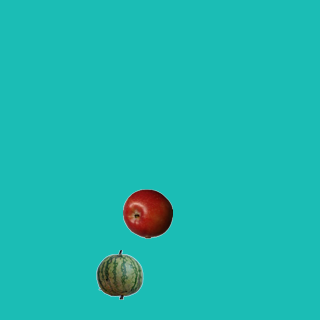Apple Braeburn: (122, 188, 172, 238)
Watermelon: (94, 249, 144, 299)
